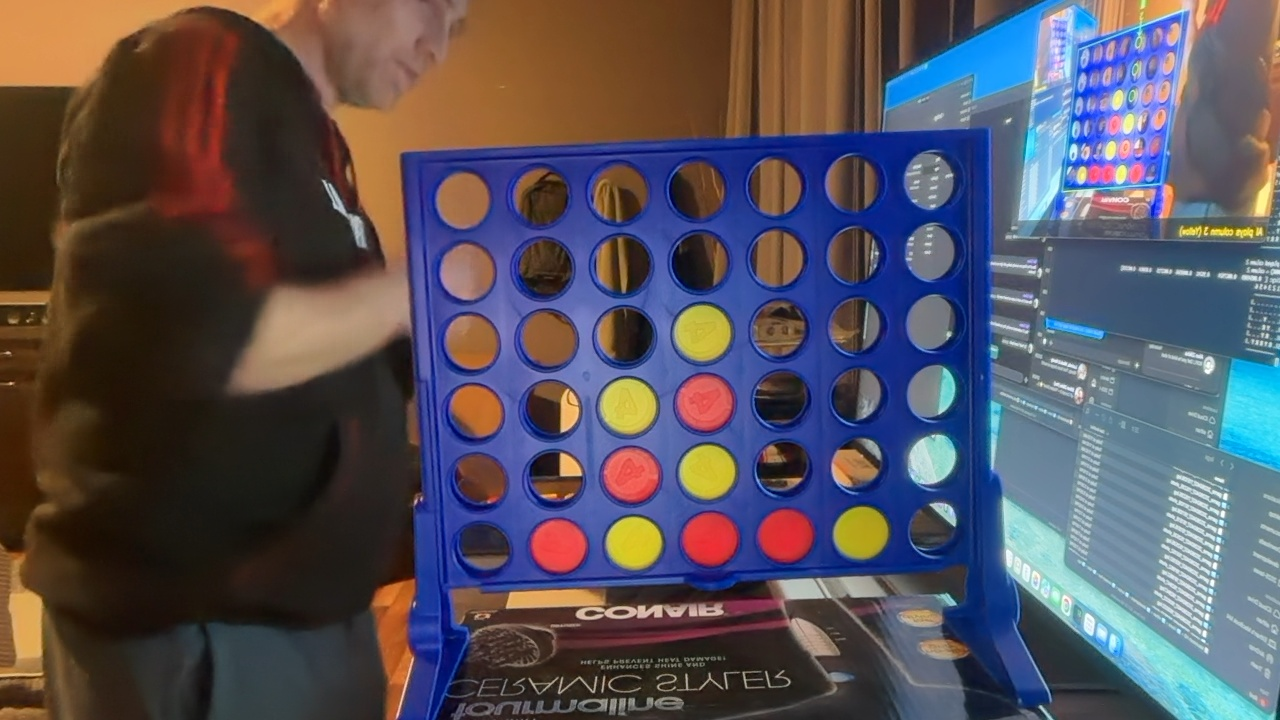red piece: (675, 373, 735, 432), (601, 447, 660, 503), (680, 512, 739, 567), (530, 519, 587, 574), (757, 509, 814, 564)
yellow piece: (598, 377, 657, 436), (673, 303, 732, 362), (678, 444, 736, 500), (605, 516, 663, 571), (833, 506, 889, 560)
